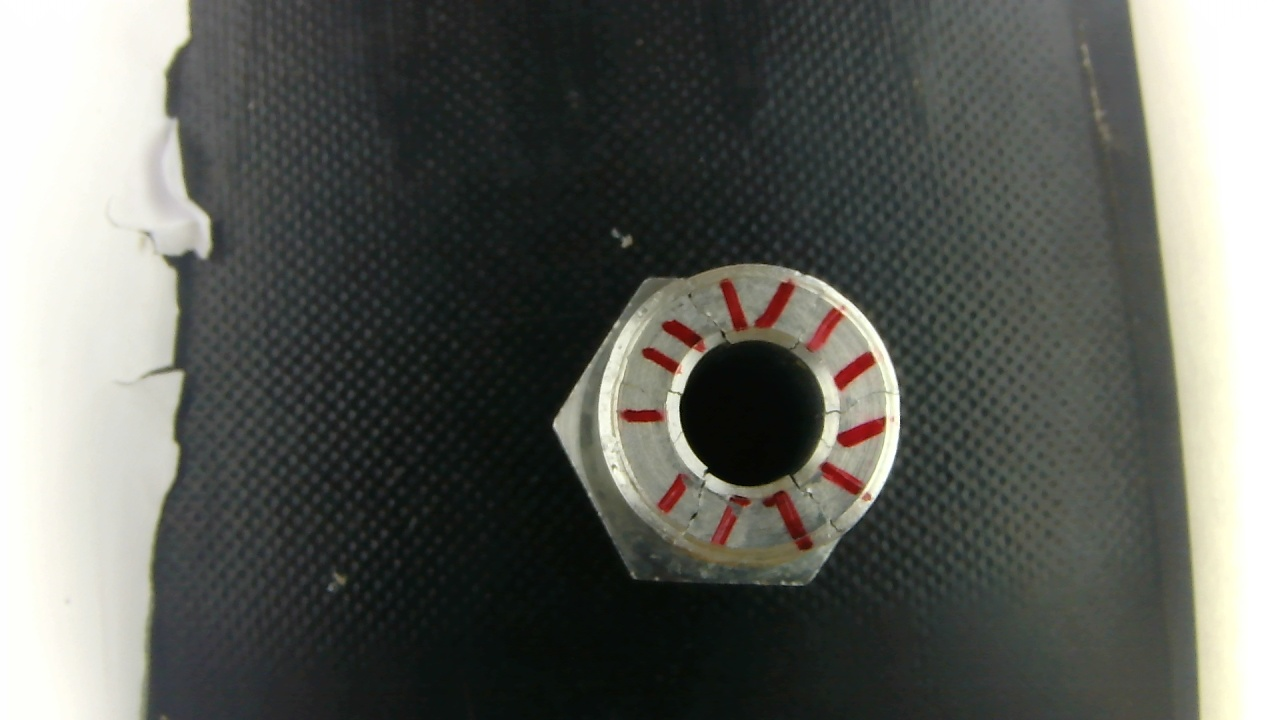crack: (671, 462, 721, 552)
